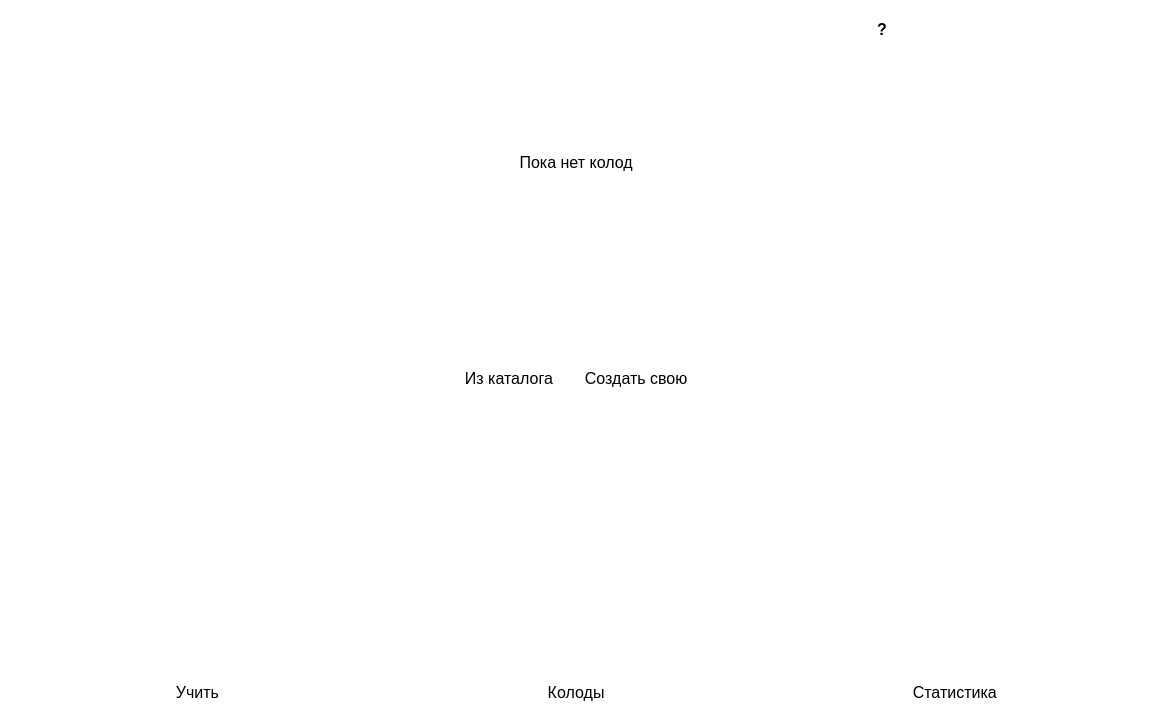
Test: app navigation › opens the catalog from the empty study state
Click the button "Из каталога" at {"x": 509, "y": 379}, box x1=453 y1=360 x2=565 y2=398
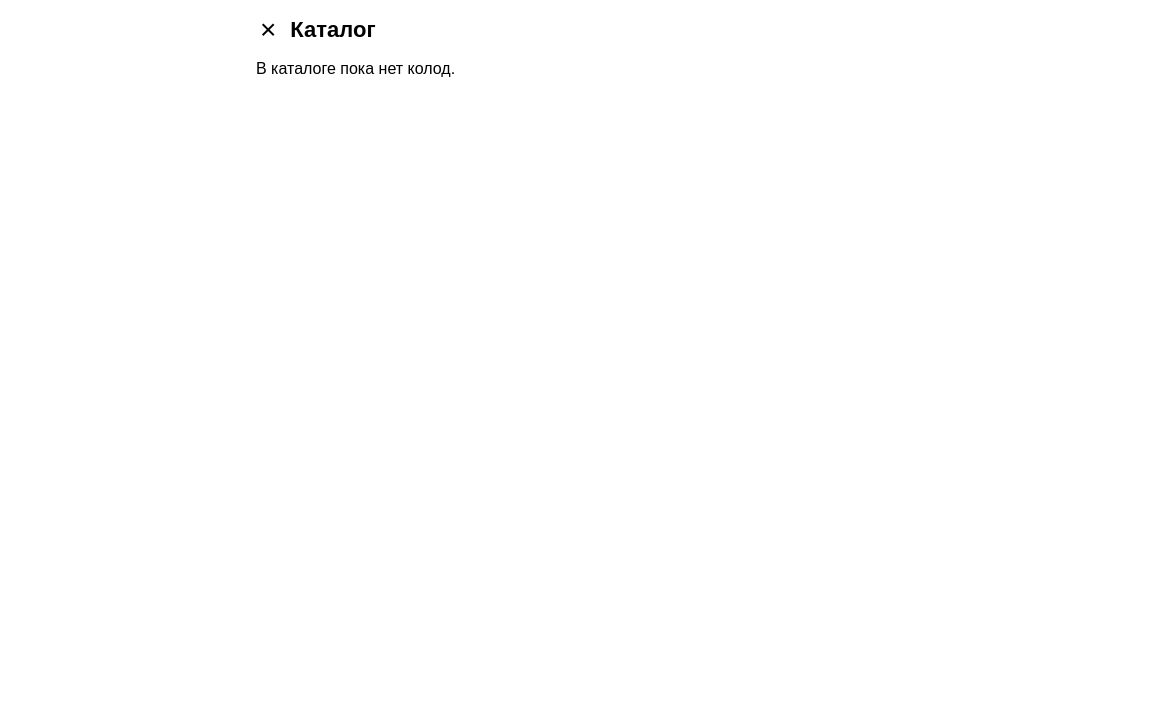
Expected: the heading "Каталог" is shown, x1=290 y1=17 x2=376 y2=43
